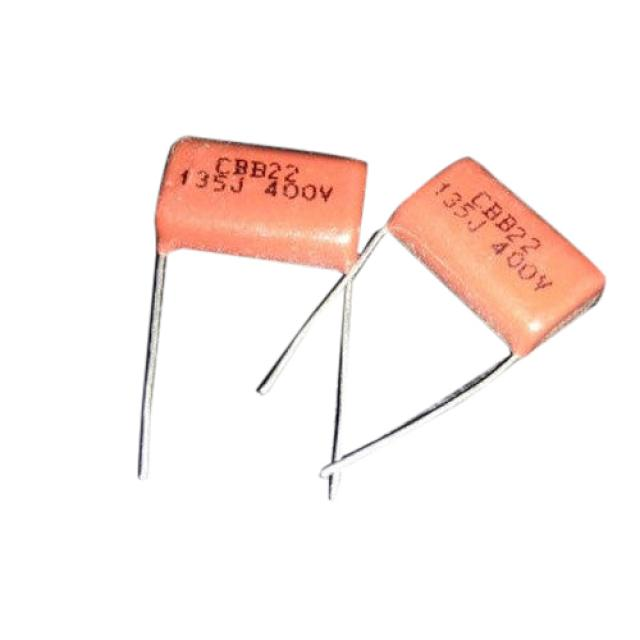Capacitor: (258, 159, 604, 496), (139, 138, 366, 478)
